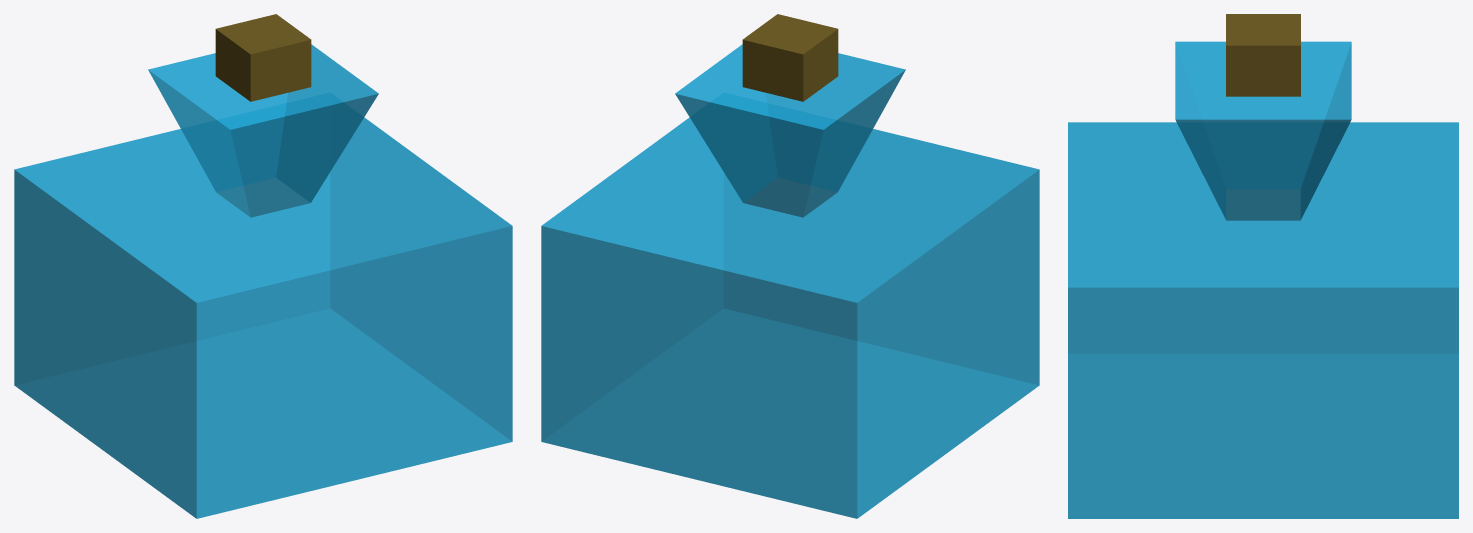
The model's file is FlaskSquare.fbx.
3 views of the same model, side by side, from view 1: azimuth 30°, elevation 25°; view 2: azimuth 150°, elevation 25°; view 3: azimuth 270°, elevation 25° (orthographic). The views are drawn at different scales.
Parts seen in each view (by area): view 1: Cube; view 2: Cube; view 3: Cube.
Boxes of the visible parts, <box> form: Cube: <box>14,14,512,518</box>; Cube: <box>541,14,1039,518</box>; Cube: <box>1068,14,1458,518</box>.
Size of the model in its own units: 200 by 230 by 200.
